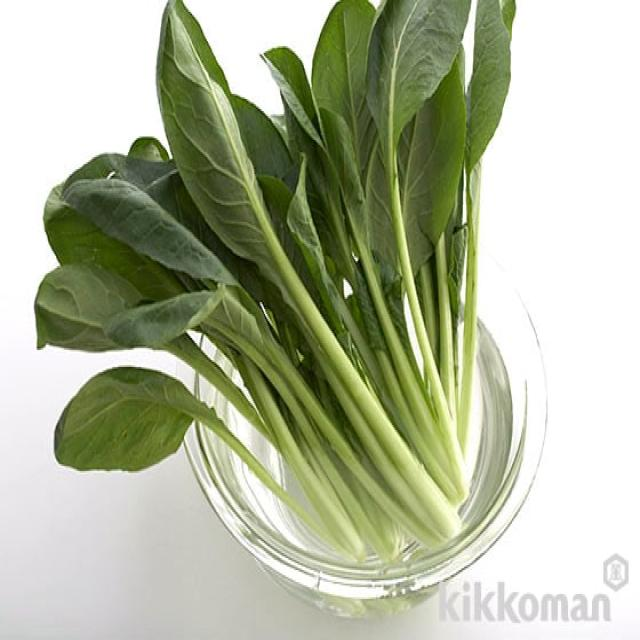Wet Waste: (25, 0, 517, 582)
